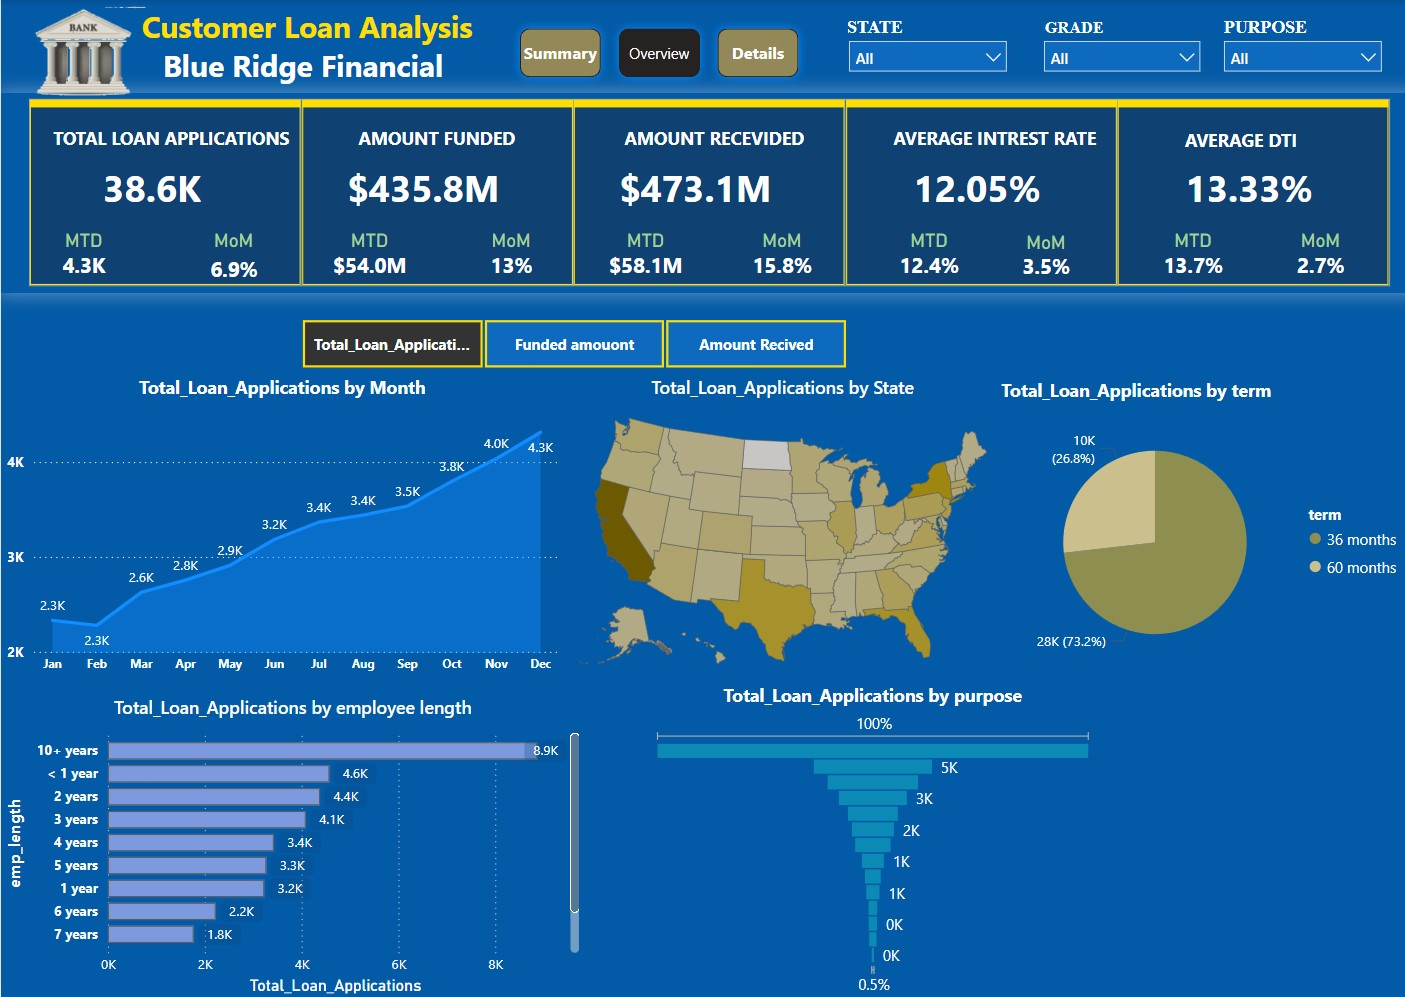

The dashboard page shown, as its layout file describes it:
{"tool":"powerbi","page":{"name":"Overview","canvas":[1280,900],"ordinal":1},"visuals":[{"type":"textbox","box":[41.9,108.1,233.8,36.5],"z":0,"group":"g1"},{"type":"cardVisual","fields":{"Data":["financial_loan.Total_Loan_Applications","financial_loan.Funded amouont","financial_loan.Amount Recived","financial_loan.Avg Intrest Rate","financial_loan.Average Dti"]},"box":[0,83.8,1279.7,179.7],"z":0},{"type":"textbox","box":[275.7,108.1,233.8,36.5],"z":1000,"group":"g1"},{"type":"card","title":"MTD","fields":{"Values":["financial_loan.MTD"]},"box":[42.3,206.3,64.9,47.3],"z":1000},{"type":"textbox","box":[525.7,108.1,233.8,36.5],"z":2000,"group":"g1"},{"type":"card","title":"MoM","fields":{"Values":["financial_loan.MoM"]},"box":[173.4,206.3,73,54.1],"z":2000},{"type":"textbox","box":[778.4,108.1,233.8,36.5],"z":3000,"group":"g1"},{"type":"group","id":"g1","title":"Group 1","box":[41.9,108.1,1191.9,37.8],"z":3000},{"type":"textbox","box":[1000,109.5,233.8,36.5],"z":4000,"group":"g1"},{"type":"card","title":"MTD","fields":{"Values":["financial_loan.MTD_Funded"]},"box":[288.3,206.3,87.8,47.3],"z":4000},{"type":"card","title":"MoM","fields":{"Values":["financial_loan.momFunded"]},"box":[423.4,206.3,73,47.3],"z":5000},{"type":"card","title":"MTD","fields":{"Values":["financial_loan.MTD_Recevied"]},"box":[536.9,206.3,87.8,47.3],"z":6000},{"type":"card","title":"MoM","fields":{"Values":["financial_loan.MOM_Recieveid"]},"box":[658.6,206.3,90.5,47.3],"z":7000},{"type":"card","title":"MTD","fields":{"Values":["financial_loan.MTD_IntrestRate"]},"box":[792.3,206.3,87.8,47.3],"z":8000},{"type":"card","title":"MoM","fields":{"Values":["financial_loan.MOM_intrest"]},"box":[896.4,207.7,90.5,47.3],"z":9000},{"type":"card","title":"MTD","fields":{"Values":["financial_loan.MTD_DTI"]},"box":[1030.2,206.3,87.8,47.3],"z":10000},{"type":"card","title":"MoM","fields":{"Values":["financial_loan.Mom_DTI"]},"box":[1143.7,206.3,90.5,47.3],"z":11000},{"type":"slicer","fields":{"Values":["financial_loan.address_state"]},"box":[753.6,27.5,162.2,66.2],"z":12000},{"type":"slicer","fields":{"Values":["financial_loan.grade"]},"box":[929.3,27.5,160.8,66.2],"z":13000},{"type":"slicer","fields":{"Values":["financial_loan.purpose"]},"box":[1091.4,27.5,162.2,66.2],"z":14000},{"type":"textbox","box":[717.1,9.9,139.2,51.4],"z":15000},{"type":"textbox","box":[896.8,9.9,139.2,51.4],"z":16000},{"type":"textbox","box":[1055,9.9,139.2,51.4],"z":17000},{"type":"areaChart","fields":{"Y":["financial_loan.Total_Loan_Applications"],"Category":["Date_Table.Month"]},"box":[0,337.8,506.8,277],"z":18000},{"type":"slicer","fields":{"Values":["Parameter.Parameter"]},"box":[245.9,281.1,539.2,56.8],"z":19000},{"type":"shapeMap","fields":{"Value":["financial_loan.Total_Loan_Applications"],"Category":["financial_loan.address_state"]},"box":[493.2,337.8,421.6,277],"z":20000},{"type":"pieChart","fields":{"Category":["financial_loan.term"],"Y":["financial_loan.Total_Loan_Applications"]},"box":[895.9,340.5,375.7,274.3],"z":21000},{"type":"barChart","title":"Total_Loan_Applications by employee length","fields":{"Y":["financial_loan.Total_Loan_Applications"],"Category":["financial_loan.emp_length"]},"box":[0,625.7,525.7,274.3],"z":22000},{"type":"funnel","fields":{"Category":["financial_loan.purpose"],"Y":["financial_loan.Total_Loan_Applications"]},"box":[581.1,614.9,408.1,285.1],"z":23000},{"type":"image","box":[2.7,0,143.2,95.9],"z":24000},{"type":"textbox","box":[94.6,17.6,386.5,93.2],"z":25000},{"type":"pageNavigator","box":[460,17.1,268.6,60],"z":26000}]}

Visuals, with their boxes in screenshot pixels (x1, y1, x2, y2), scaled from the page's 1280x900 canvas onto the 1405x997 screenshot:
textbox: 46 120 303 160
cardVisual - financial_loan.Total_Loan_Applications x financial_loan.Funded amouont: 0 93 1404 292
textbox: 303 120 559 160
"MTD" card: 46 229 118 281
textbox: 577 120 834 160
"MoM" card: 190 229 270 288
textbox: 854 120 1111 160
"Group 1" group: 46 120 1354 162
textbox: 1098 121 1354 162
"MTD" card: 316 229 413 281
"MoM" card: 465 229 545 281
"MTD" card: 589 229 686 281
"MoM" card: 723 229 822 281
"MTD" card: 870 229 966 281
"MoM" card: 984 230 1083 282
"MTD" card: 1131 229 1227 281
"MoM" card: 1255 229 1355 281
slicer - financial_loan.address_state: 827 30 1005 104
slicer - financial_loan.grade: 1020 30 1197 104
slicer - financial_loan.purpose: 1198 30 1376 104
textbox: 787 11 940 68
textbox: 984 11 1137 68
textbox: 1158 11 1311 68
areaChart - financial_loan.Total_Loan_Applications x Date_Table.Month: 0 374 556 681
slicer - Parameter.Parameter: 270 311 862 374
shapeMap - financial_loan.Total_Loan_Applications x financial_loan.address_state: 541 374 1004 681
pieChart - financial_loan.term x financial_loan.Total_Loan_Applications: 983 377 1396 681
"Total_Loan_Applications by employee length" barChart: 0 693 577 996
funnel - financial_loan.purpose x financial_loan.Total_Loan_Applications: 638 681 1086 996
image: 3 0 160 106
textbox: 104 19 528 123
pageNavigator: 505 19 800 85
